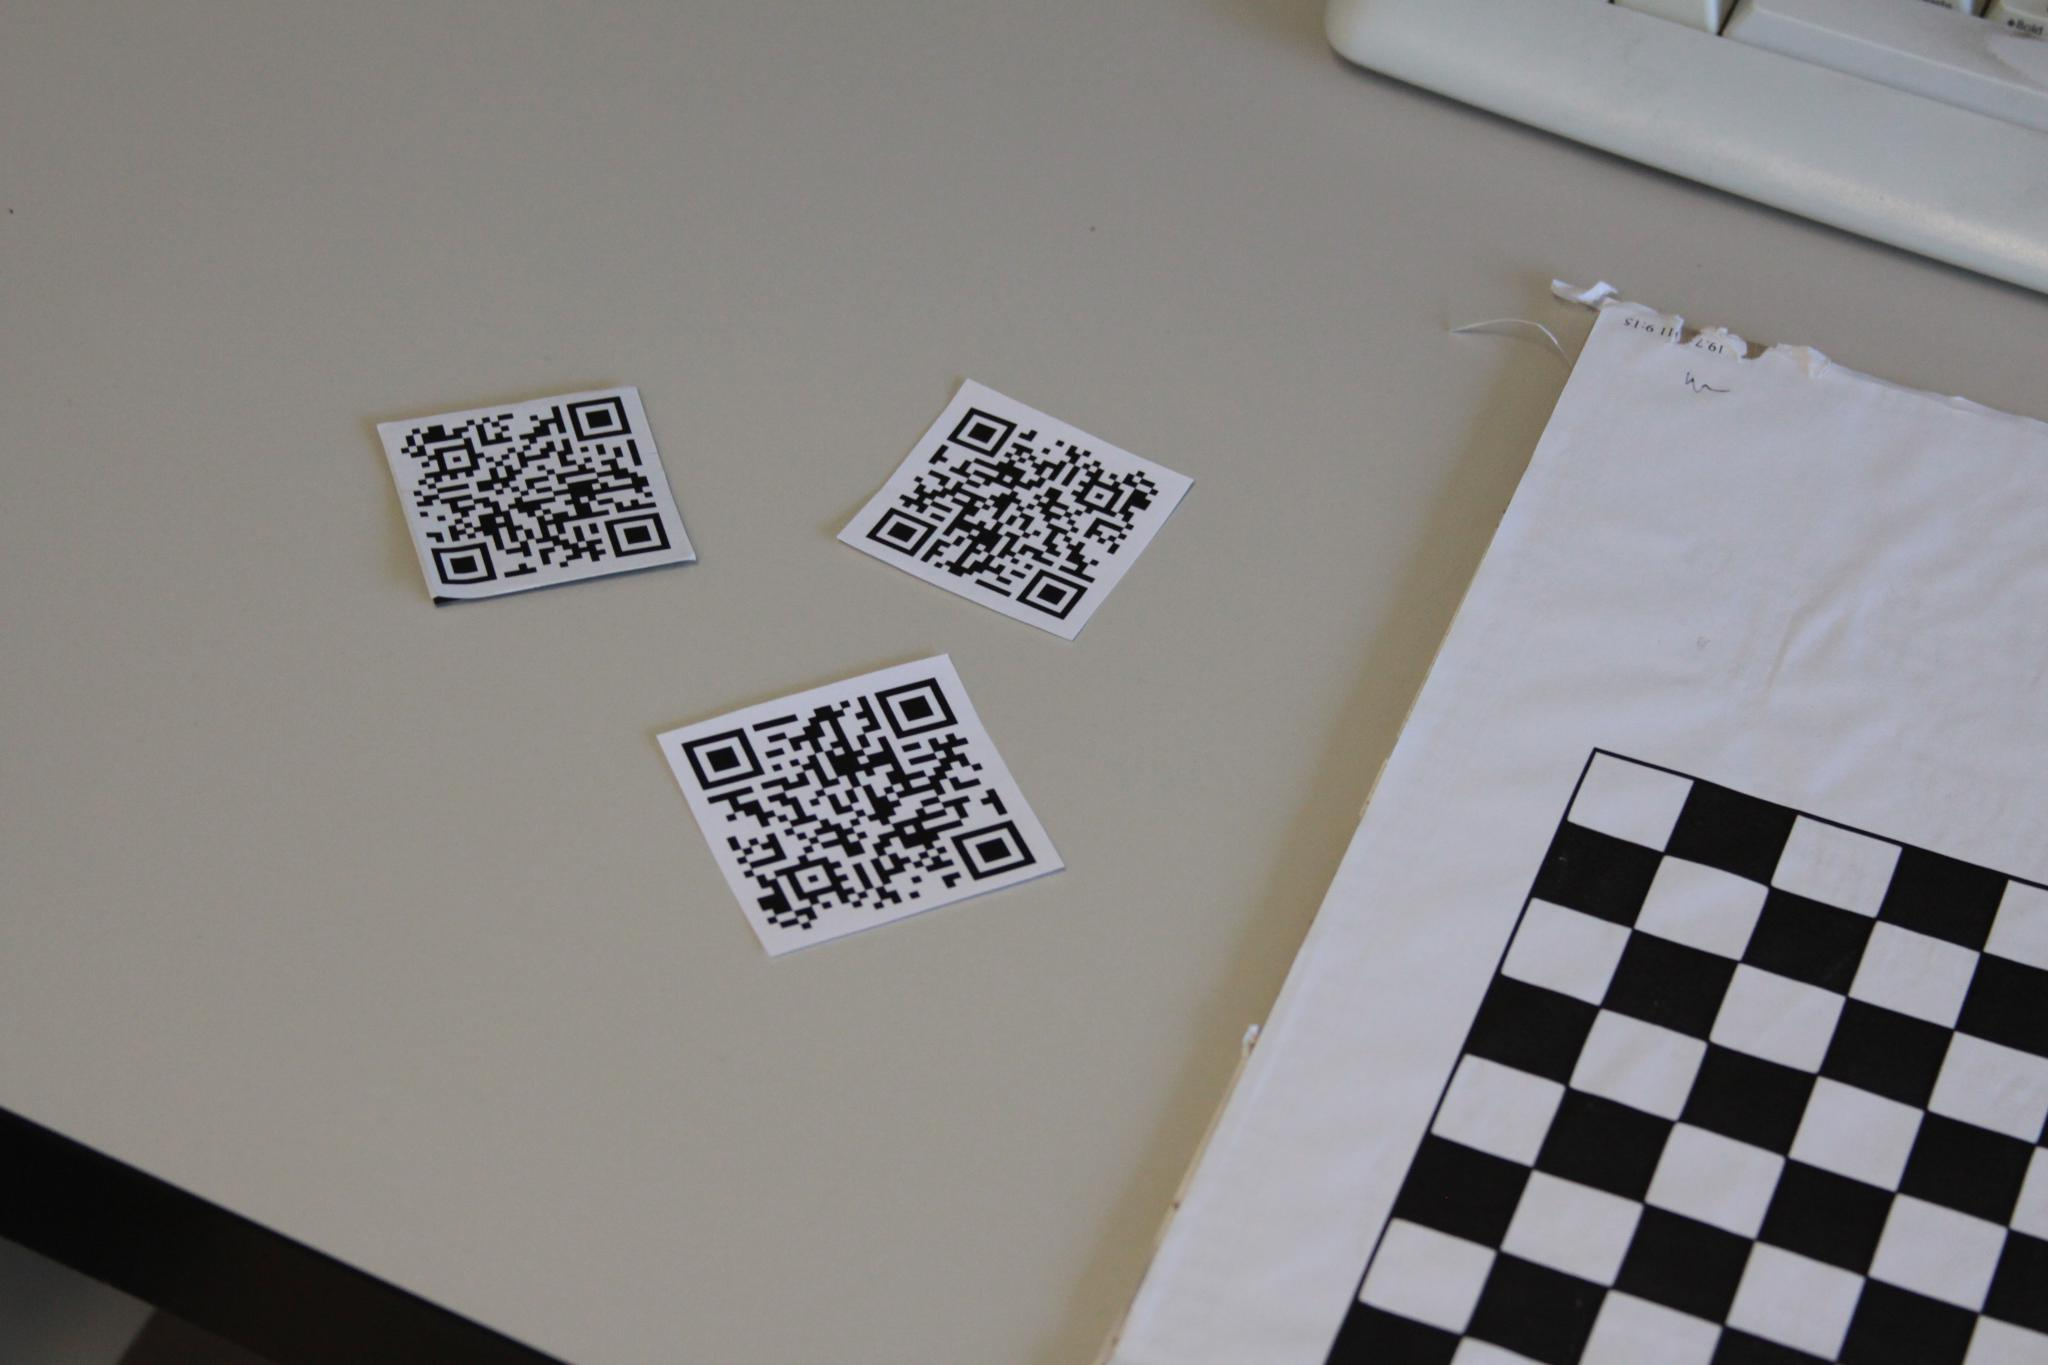Finder pattern: (946, 810, 1048, 888), (672, 721, 767, 797), (871, 672, 962, 743), (860, 503, 944, 561), (598, 506, 681, 564), (1008, 567, 1095, 622), (426, 535, 506, 594), (947, 404, 1022, 465), (560, 390, 640, 443)
